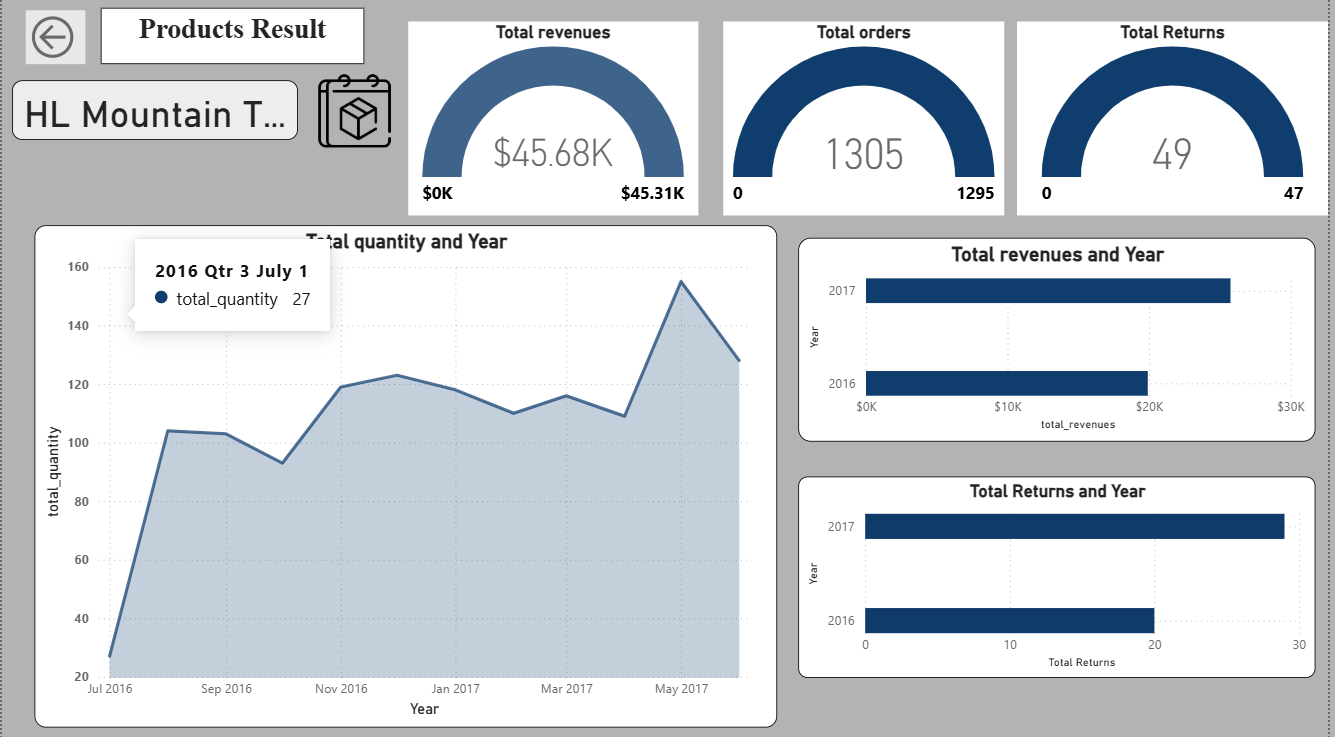

This screenshot's page, from the dashboard's own definition file:
{"tool":"powerbi","page":{"name":"Products","canvas":[1280,720],"ordinal":1},"visuals":[{"type":"card","fields":{"Values":["Min(Products.ProductName)"]},"box":[12.1,108.6,370.4,89.3],"z":0},{"type":"gauge","title":"Total revenues ","fields":{"MaxValue":["Sales.target_revenues"],"Y":["Sales.total_revenues"]},"box":[382.4,35,304,178.6],"z":1000},{"type":"gauge","title":"Total Returns ","fields":{"MaxValue":["Returns.target_return"],"Y":["Returns.Total Returns"]},"box":[971.2,26.5,308.8,187],"z":2000},{"type":"gauge","title":"Total orders ","fields":{"MaxValue":["Sales.order_target"],"Y":["Sales.total_orders"]},"box":[686.5,26.5,282.3,187],"z":3000},{"type":"lineChart","title":"Total quantity and  Year","fields":{"Y":["Sales.total_quantity"],"Category":["Calendar.Start of Month.Variation.Date Hierarchy.Year","Calendar.Start of Month.Variation.Date Hierarchy.Quarter","Calendar.Start of Month.Variation.Date Hierarchy.Month","Calendar.Start of Month.Variation.Date Hierarchy.Day"]},"box":[22.9,234,649.1,285.9],"z":4000},{"type":"lineChart","title":"Total revenues and Year","fields":{"Y":["Sales.total_revenues"],"Category":["Calendar.Start of Month.Variation.Date Hierarchy.Year","Calendar.Start of Month.Variation.Date Hierarchy.Quarter","Calendar.Start of Month.Variation.Date Hierarchy.Month","Calendar.Start of Month.Variation.Date Hierarchy.Day"]},"box":[696.1,234,567,285.9],"z":5000},{"type":"areaChart","title":"Total Returns  Month and Day","fields":{"Y":["Returns.Total Returns"],"Category":["Calendar.Start of Week.Variation.Date Hierarchy.Month","Calendar.Start of Week.Variation.Date Hierarchy.Day"]},"box":[59.1,529.6,1172.7,178.6],"z":6000},{"type":"textbox","box":[12.1,9.7,254.6,74.8],"z":7000},{"type":"image","box":[254.6,1.2,127.9,90.5],"z":8000}]}

Visuals, with their boxes in screenshot pixels (x1, y1, x2, y2), scaled from the page's 1280x720 canvas onto the 1335x737 screenshot:
card - Min(Products.ProductName): [13, 111, 399, 203]
"Total revenues " gauge: [399, 36, 716, 219]
"Total Returns " gauge: [1013, 27, 1334, 219]
"Total orders " gauge: [716, 27, 1010, 219]
"Total quantity and  Year" lineChart: [24, 240, 701, 532]
"Total revenues and Year" lineChart: [726, 240, 1317, 532]
"Total Returns  Month and Day" areaChart: [62, 542, 1285, 725]
textbox: [13, 10, 278, 86]
image: [266, 1, 399, 94]
